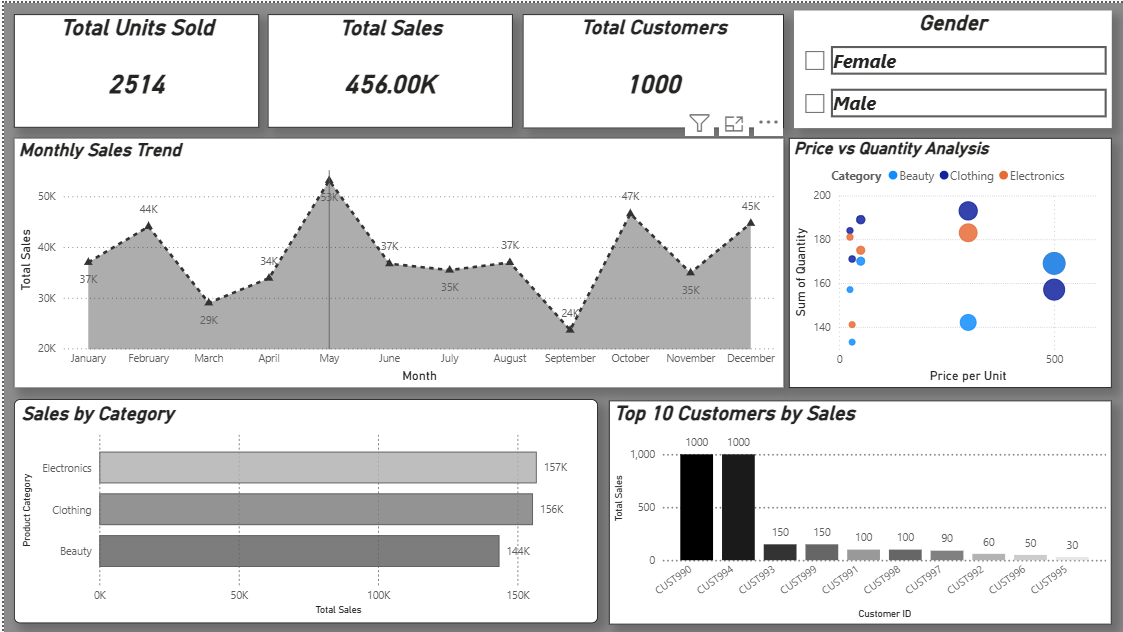

The dashboard page shown, as its layout file describes it:
{"tool":"powerbi","page":{"name":"Retail Analysis","canvas":[1280,720],"ordinal":0},"visuals":[{"type":"card","title":"Total Units Sold","fields":{"Values":["retail_sales_dataset.Total Units Sold"]},"box":[11.5,13,279.9,129.8],"z":0},{"type":"card","title":"Total Sales","fields":{"Values":["retail_sales_dataset.Total Sales"]},"box":[301.5,13,279.9,129.8],"z":1000},{"type":"card","title":"Total Customers","fields":{"Values":["retail_sales_dataset.Total Customers"]},"box":[593.3,13.3,298.3,130],"z":2000},{"type":"lineChart","title":"Monthly Sales Trend","fields":{"Category":["retail_sales_dataset.Date.Variation.Date Hierarchy.Month"],"Y":["retail_sales_dataset.Total Sales"]},"box":[11.4,154.3,880,285.7],"z":3000},{"type":"clusteredBarChart","title":"Sales by Category","fields":{"Y":["retail_sales_dataset.Total Sales"],"Category":["retail_sales_dataset.Product Category"]},"box":[11.4,452.9,667.1,255.7],"z":4000},{"type":"slicer","title":"Gender","fields":{"Values":["retail_sales_dataset.Gender"]},"box":[902.9,8.6,362.9,134.3],"z":5000},{"type":"scatterChart","title":"Price vs Quantity Analysis","fields":{"Size":["retail_sales_dataset.Total Sales"],"Series":["retail_sales_dataset.Product Category"],"Y":["Sum(retail_sales_dataset.Quantity)"],"X":["retail_sales_dataset.Price per Unit"]},"box":[897.1,154.3,368.6,285.7],"z":6000},{"type":"clusteredColumnChart","title":"Top 10 Customers by Sales","fields":{"Category":["retail_sales_dataset.Customer ID"],"Y":["retail_sales_dataset.Total Sales"]},"box":[691.4,454.3,574.3,255.7],"z":7000}]}

Visuals, with their boxes in screenshot pixels (x1, y1, x2, y2), scaled from the page's 1280x720 canvas onto the 1123x632 screenshot:
"Total Units Sold" card: bbox=(10, 11, 256, 125)
"Total Sales" card: bbox=(265, 11, 510, 125)
"Total Customers" card: bbox=(521, 12, 782, 126)
"Monthly Sales Trend" lineChart: bbox=(10, 135, 782, 386)
"Sales by Category" clusteredBarChart: bbox=(10, 398, 595, 622)
"Gender" slicer: bbox=(792, 8, 1111, 125)
"Price vs Quantity Analysis" scatterChart: bbox=(787, 135, 1110, 386)
"Top 10 Customers by Sales" clusteredColumnChart: bbox=(607, 399, 1110, 623)
